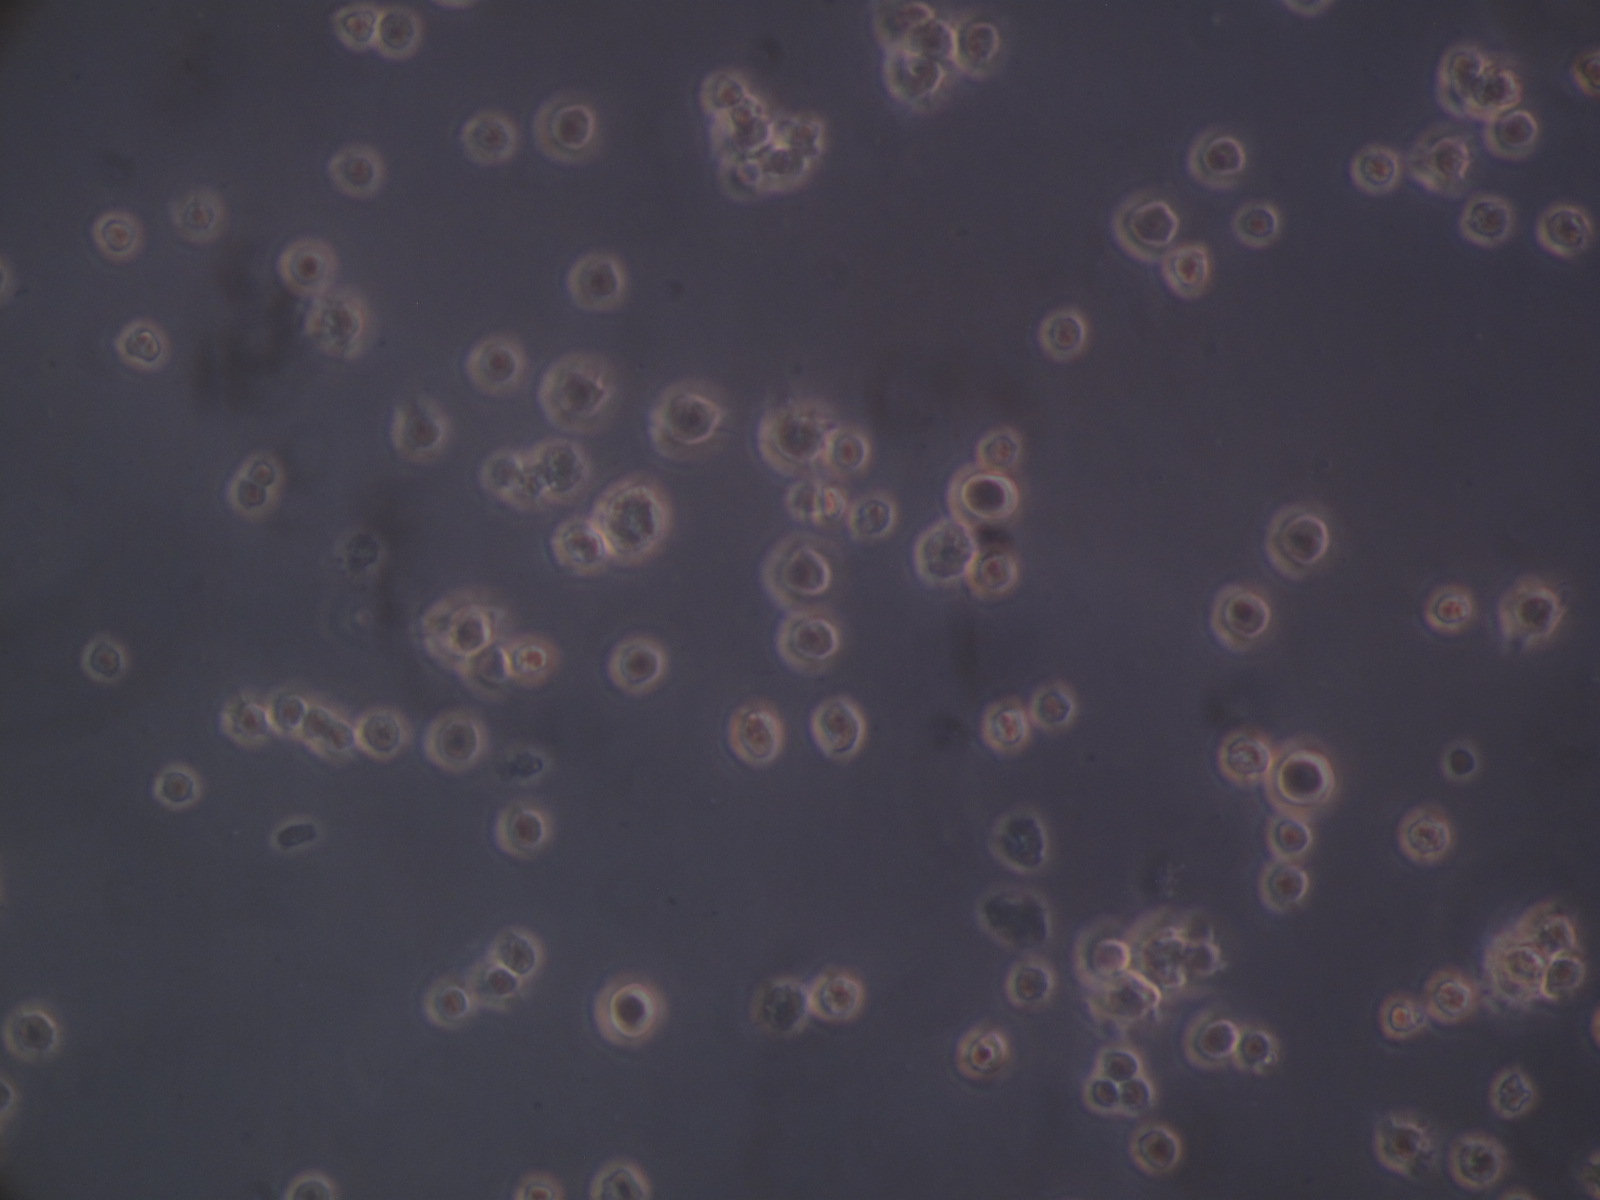hemo: (648, 377, 736, 465), (590, 471, 670, 567), (535, 350, 616, 435), (420, 591, 493, 674), (758, 534, 834, 611), (593, 972, 666, 1050), (1266, 502, 1329, 584), (532, 91, 597, 169), (1112, 189, 1179, 265), (973, 887, 1052, 950), (1264, 742, 1333, 814), (755, 408, 826, 476), (1499, 575, 1567, 645), (1207, 582, 1272, 652), (1409, 125, 1471, 197), (944, 463, 1019, 522), (913, 521, 980, 587), (775, 613, 842, 677), (882, 47, 951, 108), (1071, 920, 1133, 987), (726, 697, 784, 768), (460, 329, 524, 392), (422, 708, 483, 775), (302, 294, 364, 358), (1089, 968, 1159, 1024), (1186, 126, 1247, 189), (988, 807, 1048, 870), (811, 695, 868, 761), (552, 514, 611, 577), (1484, 933, 1542, 997), (752, 976, 810, 1040), (391, 401, 450, 463), (532, 441, 591, 503), (276, 238, 336, 297), (606, 634, 665, 695), (1128, 906, 1186, 967), (9, 996, 60, 1063), (454, 644, 513, 702), (1531, 202, 1591, 258), (568, 256, 629, 313), (1519, 899, 1579, 955), (1214, 727, 1274, 784), (328, 144, 386, 200), (170, 188, 227, 245), (1180, 1012, 1238, 1068), (465, 959, 527, 1011), (1397, 805, 1451, 863), (952, 1024, 1007, 1082), (957, 8, 1000, 79), (92, 208, 146, 265), (1459, 194, 1514, 248), (494, 802, 546, 860), (1374, 1119, 1427, 1175), (113, 316, 169, 369), (980, 695, 1032, 751), (874, 1, 935, 49), (218, 695, 271, 749), (1488, 105, 1540, 160), (1451, 1132, 1503, 1187), (506, 635, 558, 691), (355, 705, 406, 761), (968, 547, 1020, 600), (590, 1155, 651, 1200), (1036, 308, 1087, 362), (1424, 582, 1475, 637), (1160, 243, 1211, 299), (809, 971, 864, 1021), (461, 112, 517, 163), (1259, 856, 1308, 913), (1129, 1121, 1180, 1174), (489, 926, 542, 978), (1003, 955, 1054, 1007), (1437, 45, 1483, 102), (1425, 974, 1474, 1026), (1349, 145, 1398, 195), (716, 153, 766, 202), (425, 979, 472, 1031), (377, 8, 423, 61), (330, 5, 379, 54), (1233, 202, 1283, 250), (151, 764, 202, 811), (907, 18, 959, 63), (226, 478, 280, 521), (756, 147, 811, 189), (266, 686, 307, 741), (824, 429, 871, 478), (850, 492, 897, 541), (1474, 64, 1524, 108), (1490, 1066, 1532, 1119), (1031, 681, 1076, 729), (81, 638, 129, 683), (506, 458, 546, 513), (1236, 1021, 1277, 1071), (1266, 813, 1313, 857), (976, 425, 1019, 473), (1382, 995, 1425, 1042), (1545, 955, 1586, 1005), (777, 118, 824, 161), (483, 450, 523, 499), (1080, 1074, 1124, 1116), (281, 1170, 341, 1200), (700, 71, 745, 110), (299, 707, 333, 758), (238, 451, 286, 487), (726, 118, 775, 153), (1146, 966, 1196, 1000), (325, 718, 357, 770), (784, 480, 823, 522), (1096, 1047, 1145, 1080), (1117, 1074, 1157, 1114), (1443, 737, 1478, 782), (1188, 937, 1223, 981), (513, 1172, 566, 1200), (1572, 52, 1600, 100), (728, 96, 766, 125), (821, 485, 847, 523)
